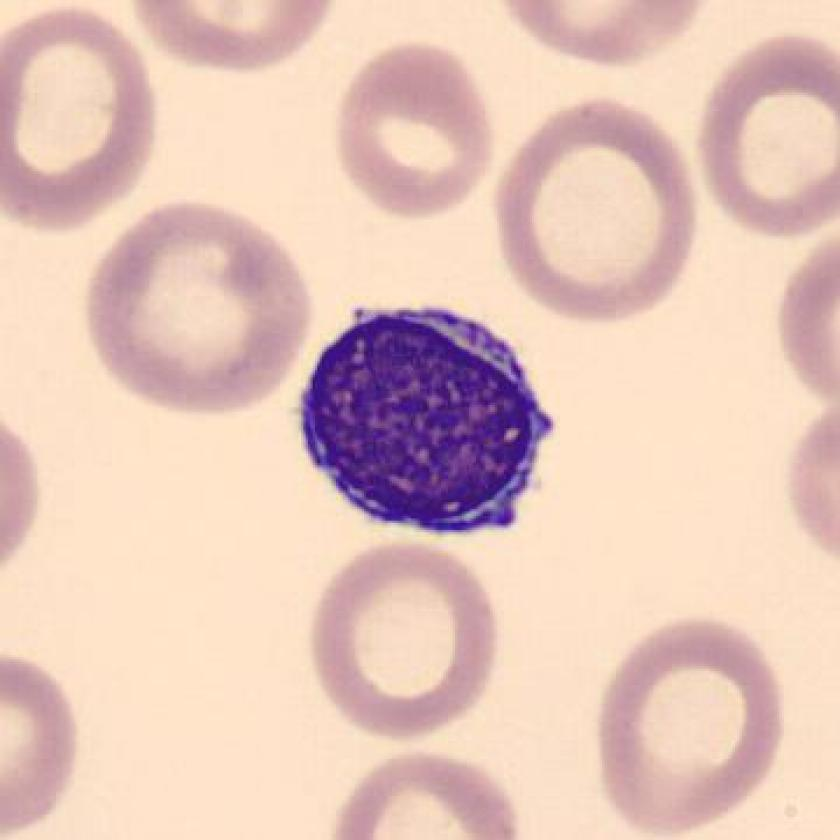lymphocyte: (283, 286, 573, 552)
